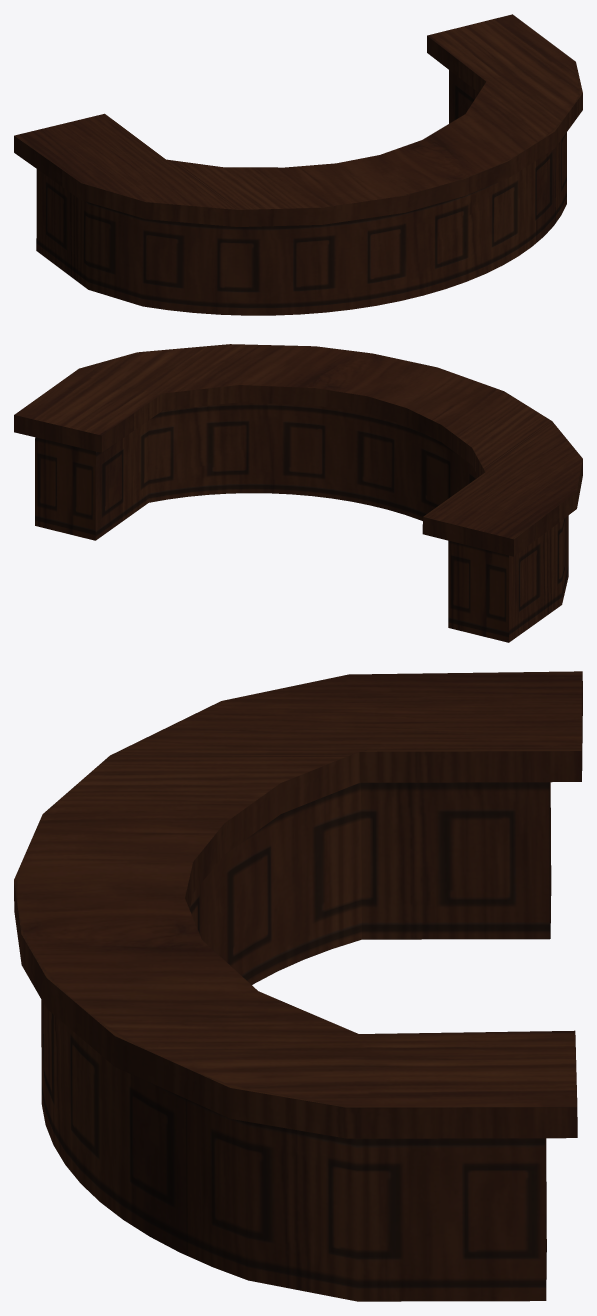
3 renders of one model, top to bottom at view 1: azimuth 30°, elevation 25°; view 2: azimuth 150°, elevation 25°; view 3: azimuth 270°, elevation 25°, orthographic. The views are drawn at different scales.
Parts seen in each view (by area): view 1: Plano; view 2: Plano; view 3: Plano.
Part boxes in pixels (x1,y1,x2,y2): Plano: (14,14,582,315); Plano: (14,344,582,642); Plano: (14,671,582,1301).
Bounding box in the file's own units: 0.3294 × 0.0727 × 0.1809.
Materials: 1 (1 with a texture image).
